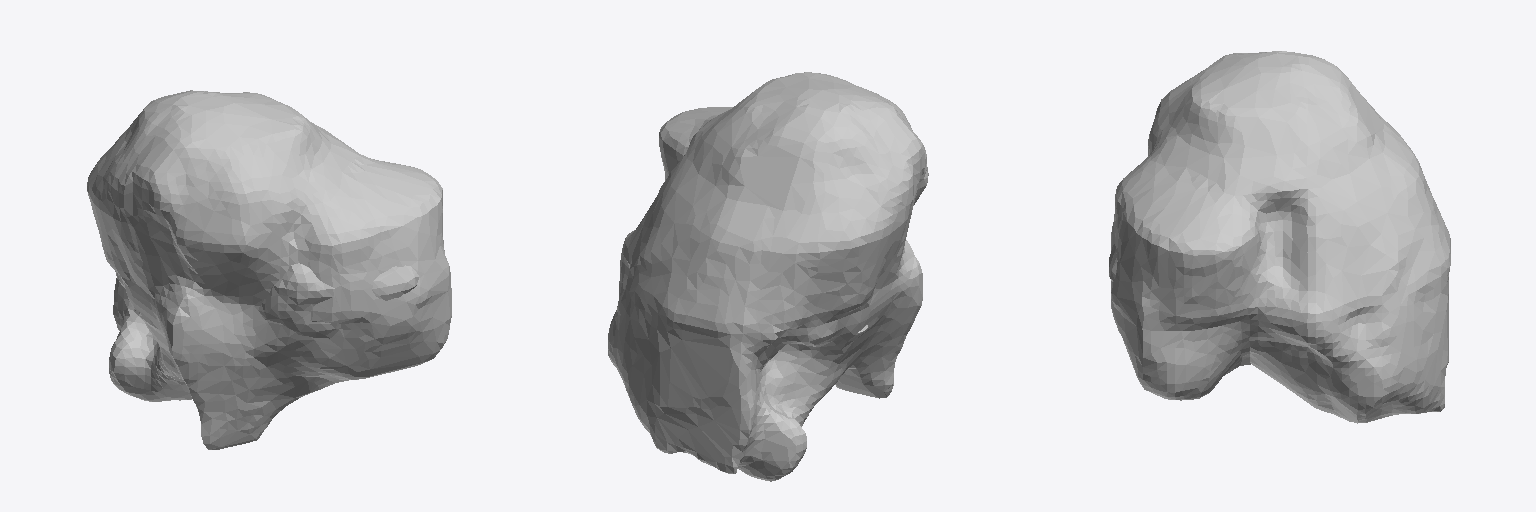
3 views of the same model, side by side, from view 1: azimuth 30°, elevation 25°; view 2: azimuth 150°, elevation 25°; view 3: azimuth 270°, elevation 25° (orthographic).
Visible parts, largest first — view 1: Polygonal_Model_4_Triangles_0; view 2: Polygonal_Model_4_Triangles_0; view 3: Polygonal_Model_4_Triangles_0.
Boxes of the visible parts, <box> form: Polygonal_Model_4_Triangles_0: <box>87,90,451,449</box>; Polygonal_Model_4_Triangles_0: <box>608,72,928,481</box>; Polygonal_Model_4_Triangles_0: <box>1109,51,1450,423</box>.
Bounding box in the file's own units: 1.54 × 1.77 × 1.63.